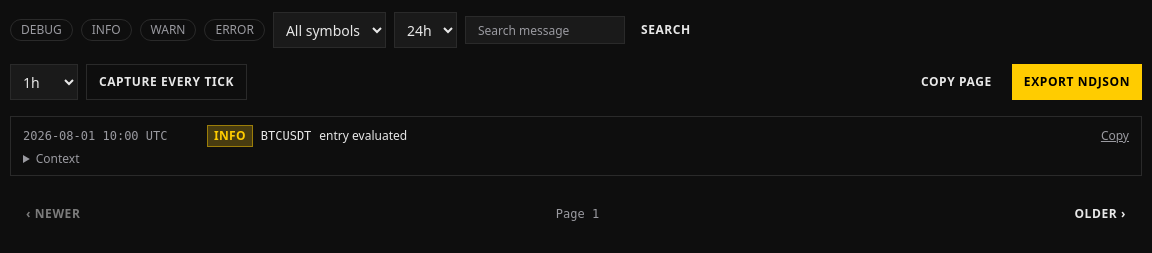
Test: LogViewerPanel › pages forward with the served cursor and back without one
Expected: the text "entry evaluated" is shown, [319,127,407,144]
Step 1. Click the button "Older ›" → (1100,214), box [1058,192,1142,236]
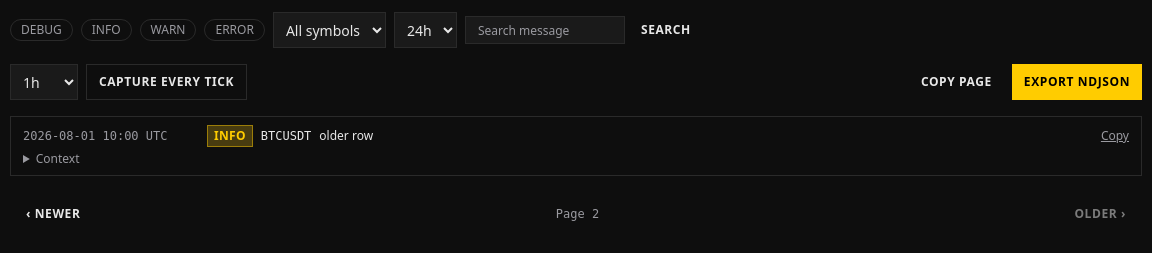
Result: the text "older row" is shown at [319,127,373,144]
Result: the text "Page 2" is shown at [556,206,599,222]
Step 2. Click the button "‹ Newer" → (53,214), box [10,192,96,236]
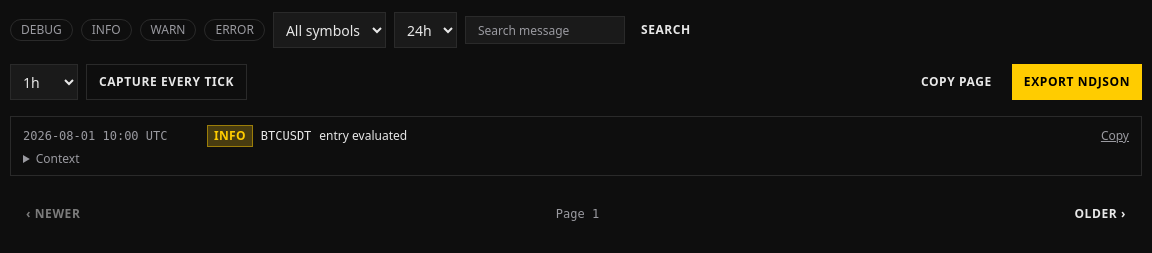
Result: the text "Page 1" is shown at [556,206,599,222]
